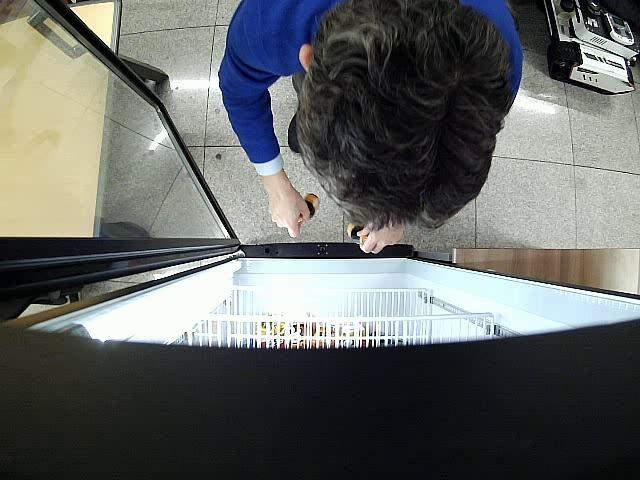17_vita500: (298, 194, 320, 222), (347, 222, 368, 244)
